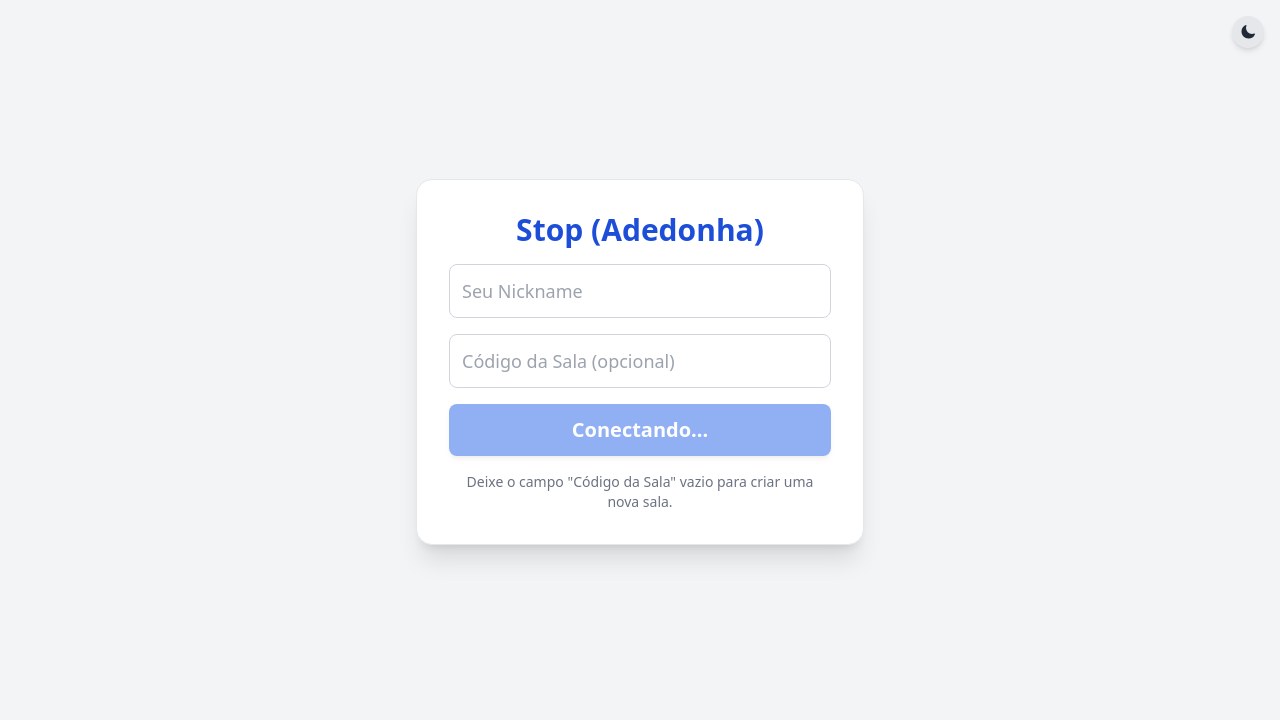
Test: Home Component › Form Input Validation › should respect room code maxLength of 8 characters
In the field with test id "room-code-input": (640, 361) top-left (449, 334), bottom-right (831, 388), type "VeryLongRoomCode123"
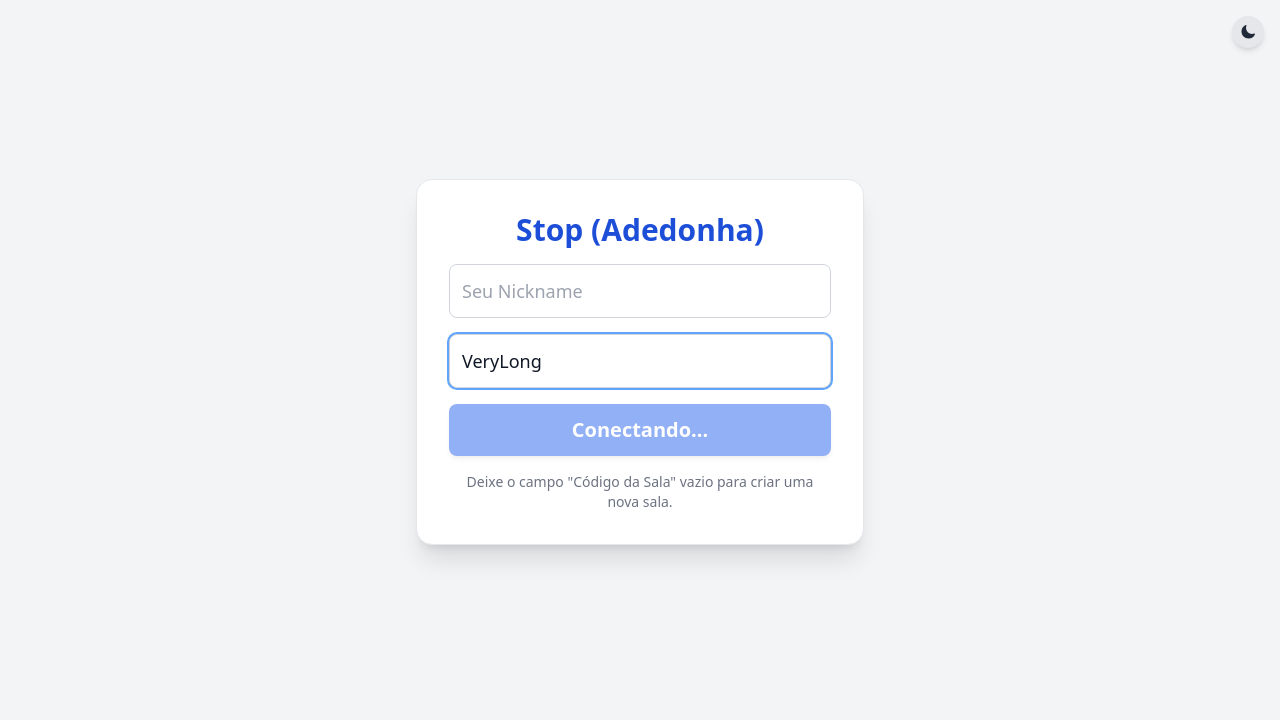
Check: the field with test id "room-code-input" holds "VeryLong", box top-left (449, 334), bottom-right (831, 388)
